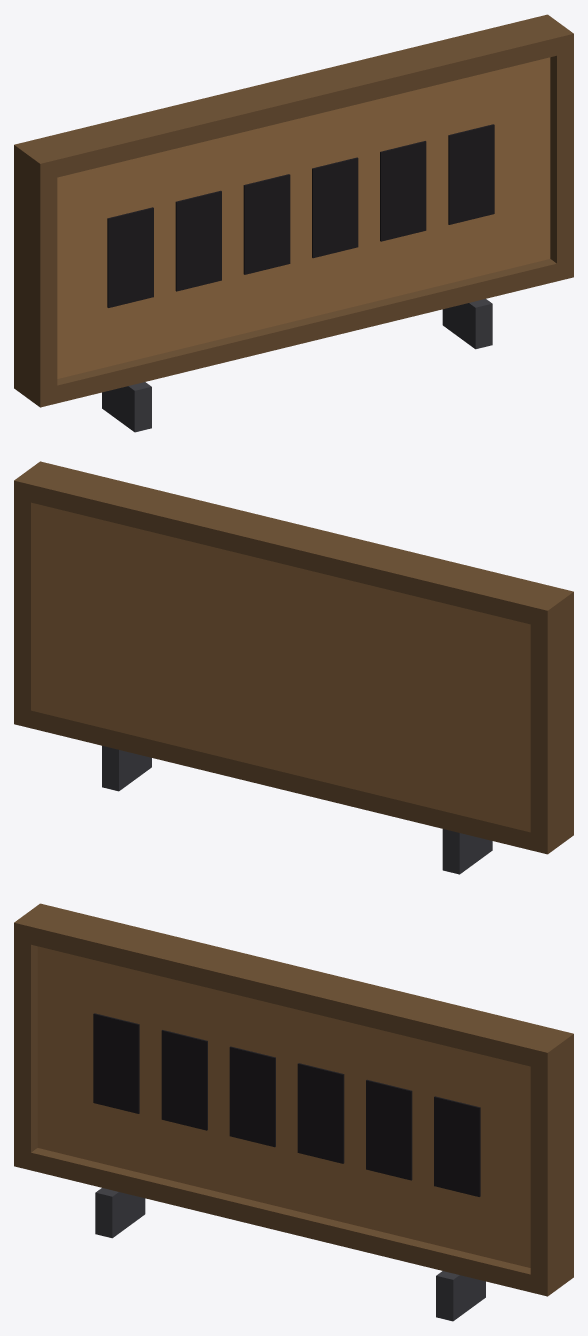
File: ShopSign.fbx
3 renders of one model, top to bottom at view 1: azimuth 30°, elevation 25°; view 2: azimuth 150°, elevation 25°; view 3: azimuth 330°, elevation 25°, orthographic.
Parts seen in each view (by area): view 1: ShopSign; view 2: ShopSign; view 3: ShopSign.
Part boxes in pixels (box(x1,y1,x2,y2)): ShopSign: box(14, 14, 573, 432); ShopSign: box(14, 461, 573, 874); ShopSign: box(14, 903, 573, 1321).
Bounding box in the file's own units: 0.94 × 0.48 × 0.1.
